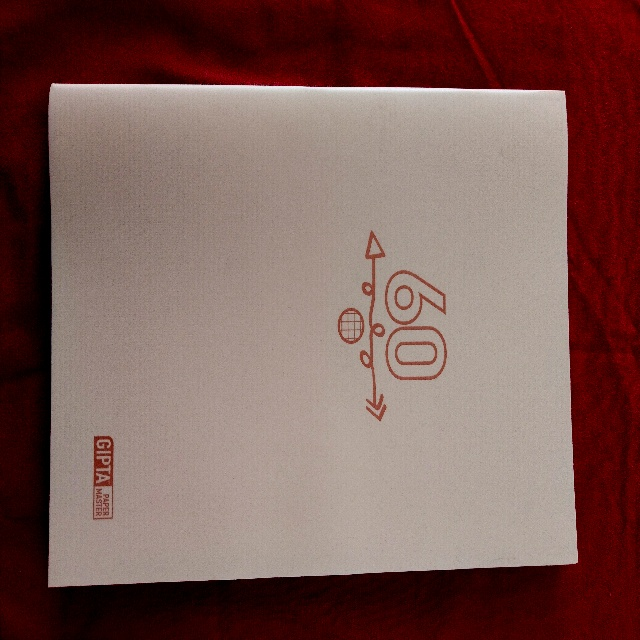60_sayfa_gipta_defter: (41, 86, 574, 602)
